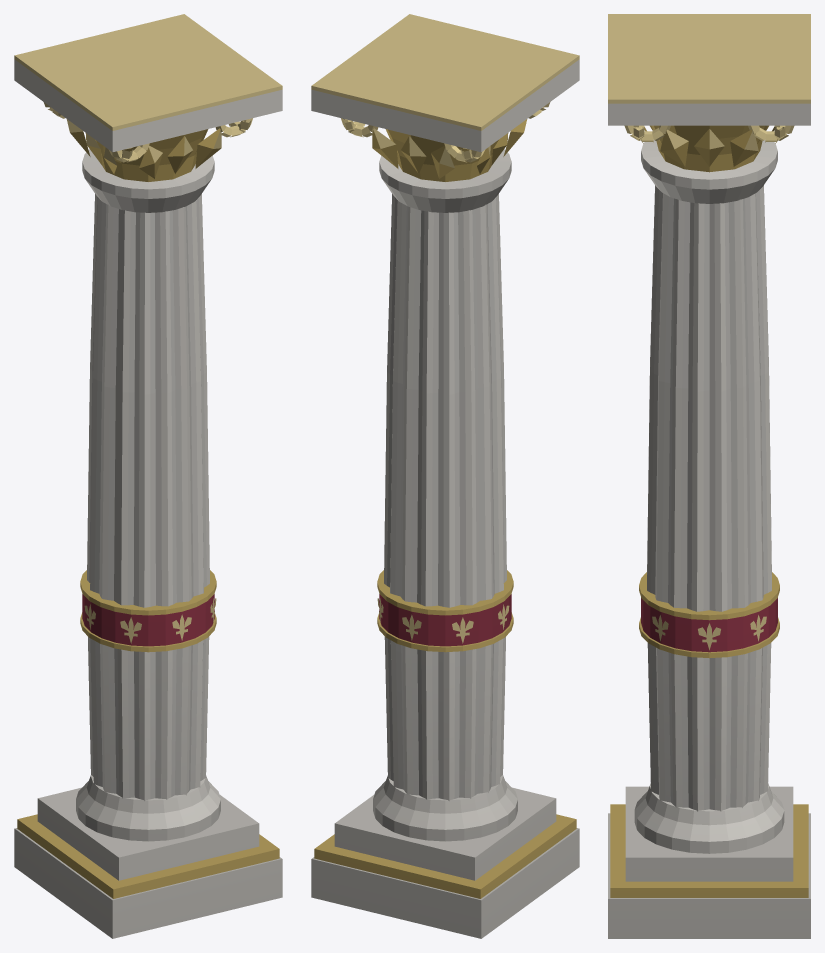
File: palace_column_grand.glb
3 views of the same model, side by side, from view 1: azimuth 30°, elevation 25°; view 2: azimuth 150°, elevation 25°; view 3: azimuth 270°, elevation 25° (orthographic). The views are drawn at different scales.
Visible parts, largest first — view 1: palace_column_grand; view 2: palace_column_grand; view 3: palace_column_grand.
Part boxes in pixels (x1=…): palace_column_grand: x1=14, y1=14, x2=282, y2=938; palace_column_grand: x1=311, y1=14, x2=579, y2=938; palace_column_grand: x1=608, y1=14, x2=810, y2=938.
Size of the model in its own units: 0.92 by 4.2 by 0.92.
